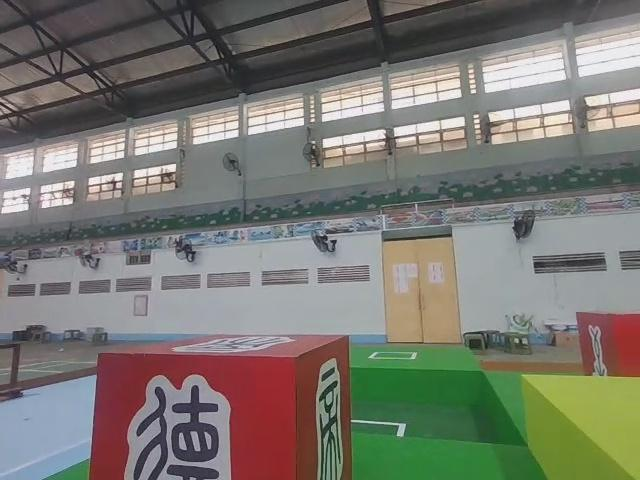R2 Fake: (87, 335, 353, 480)
R2 Real: (573, 309, 640, 382)
